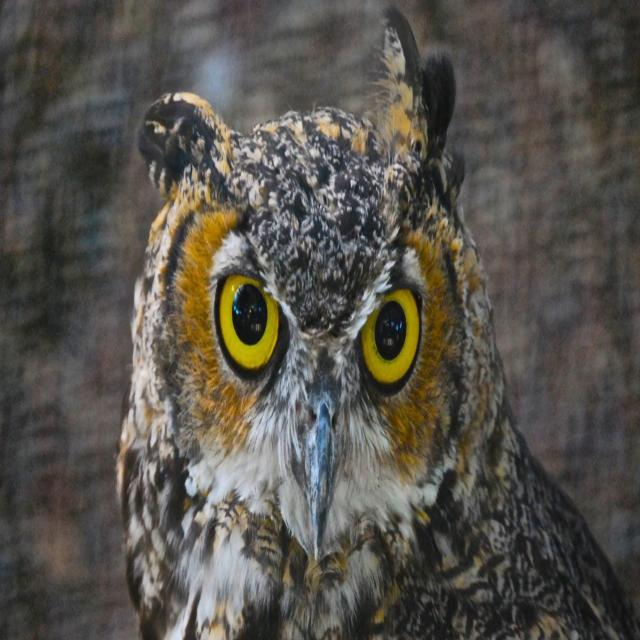Owl: (103, 9, 640, 639)
